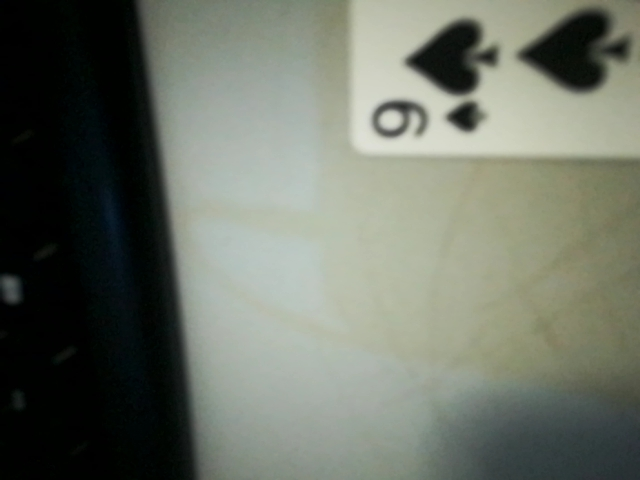ht 9: (368, 4, 626, 152), (348, 73, 511, 159)
